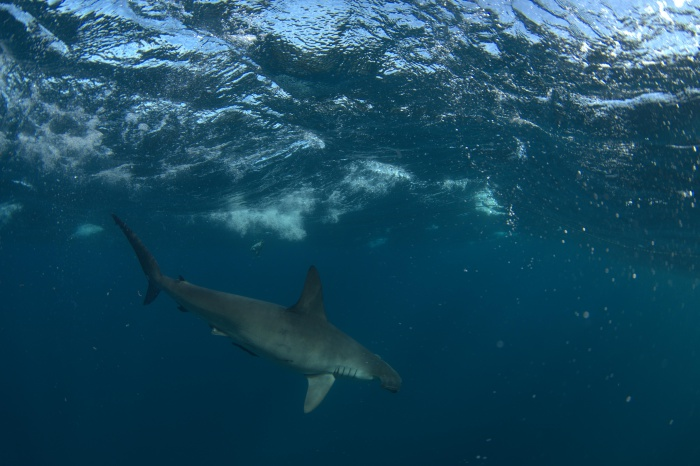Hammer: (95, 198, 490, 427)
